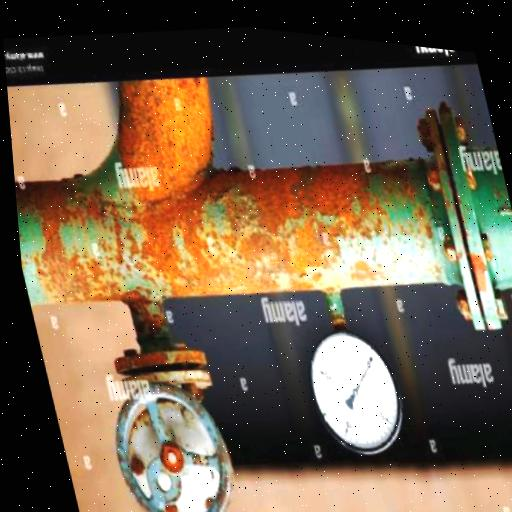corrosion: (131, 141, 414, 324), (93, 63, 235, 190), (14, 168, 125, 315)
